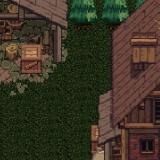Hide: (0, 49, 49, 119)
Obstacle: (68, 0, 160, 160), (0, 0, 68, 98)
